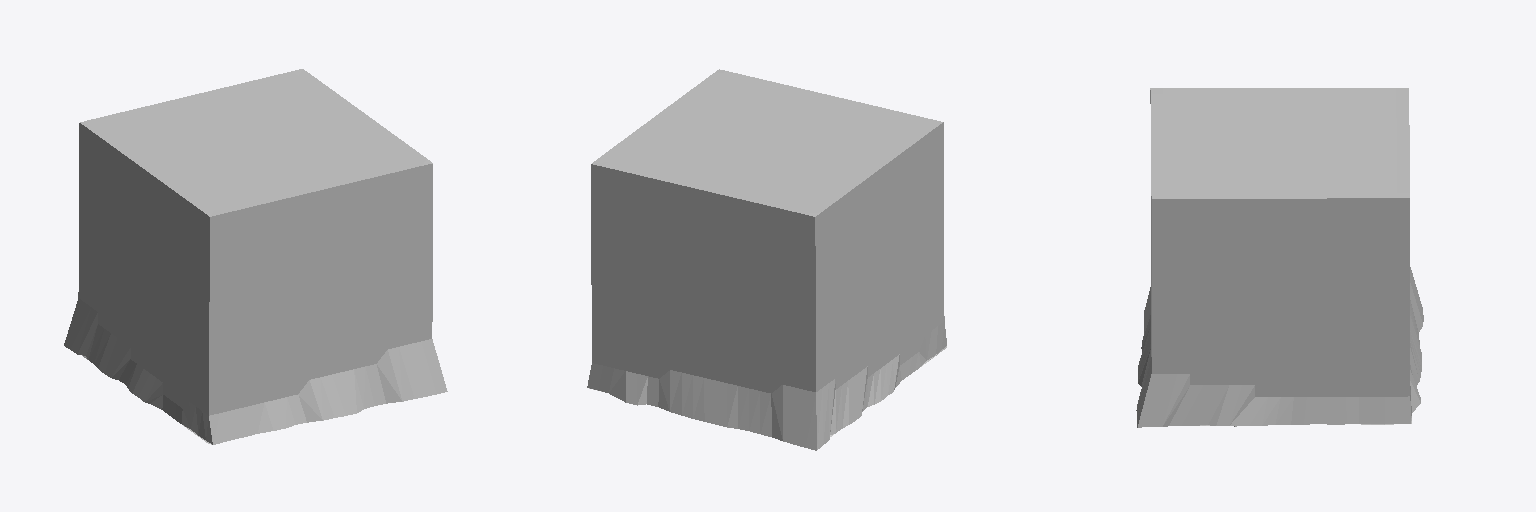
Rendered from mod0193.obj.
3 views of the same model, side by side, from view 1: azimuth 30°, elevation 25°; view 2: azimuth 150°, elevation 25°; view 3: azimuth 270°, elevation 25° (orthographic).
Visible parts, largest first — view 1: Box001; view 2: Box001; view 3: Box001.
Part boxes in pixels (bbox=[...]): Box001: bbox=[64, 69, 447, 444]; Box001: bbox=[587, 69, 946, 450]; Box001: bbox=[1136, 88, 1423, 427].
Bounding box in the file's own units: 0.5799 × 0.5224 × 0.5979.